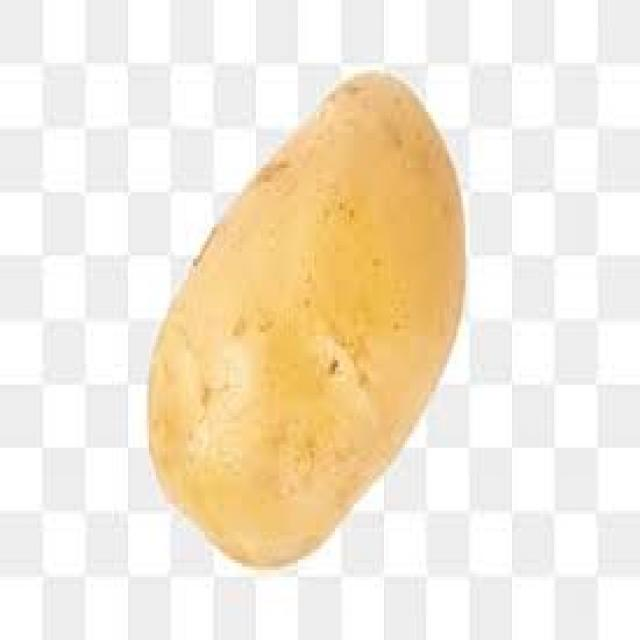potato: (149, 69, 468, 567)
